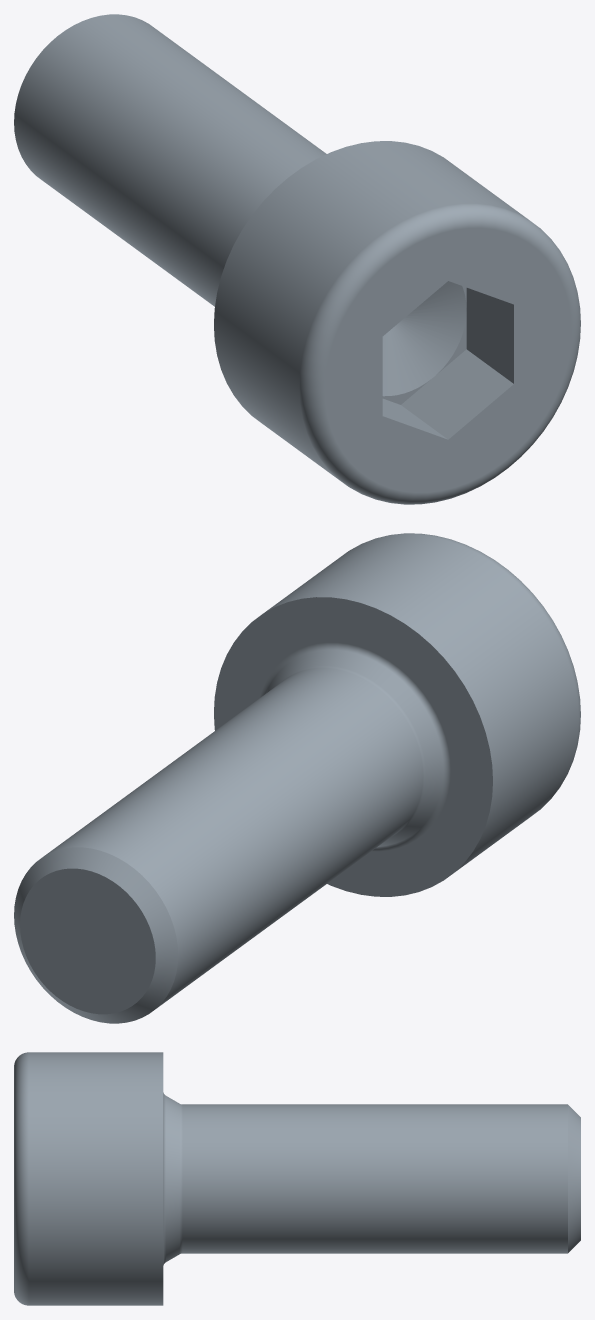
Rendered from Hex_socket_head_cap_screw_M5x0_80_x_14.obj.
3 renders of one model, top to bottom at view 1: azimuth 30°, elevation 25°; view 2: azimuth 150°, elevation 25°; view 3: azimuth 270°, elevation 25°, orthographic. The views are drawn at different scales.
Visible parts, largest first — view 1: mesh1389, mesh1396, mesh1394, mesh1395, mesh1404, mesh1402, mesh1397, mesh1401; view 2: mesh1389, mesh1394, mesh1393, mesh1387, mesh1388, mesh1391, mesh1392, mesh1395, mesh1390; view 3: mesh1389, mesh1394, mesh1395, mesh1391, mesh1388, mesh1392, mesh1390.
Part boxes in pixels (<box>): mesh1389: <box>14,14,326,306</box>; mesh1396: <box>325,228,571,492</box>; mesh1394: <box>214,141,527,480</box>; mesh1395: <box>299,203,580,504</box>; mesh1404: <box>382,281,466,396</box>; mesh1402: <box>401,349,513,439</box>; mesh1397: <box>466,288,513,383</box>; mesh1401: <box>382,398,447,439</box>; mesh1389: <box>44,668,423,1008</box>; mesh1394: <box>264,534,578,871</box>; mesh1393: <box>214,597,492,896</box>; mesh1387: <box>20,868,155,1014</box>; mesh1388: <box>14,847,178,1023</box>; mesh1391: <box>266,650,443,846</box>; mesh1392: <box>259,642,450,851</box>; mesh1395: <box>353,533,580,799</box>; mesh1390: <box>278,665,425,837</box>; mesh1389: <box>182,1104,567,1253</box>; mesh1394: <box>29,1052,163,1305</box>; mesh1395: <box>14,1052,28,1305</box>; mesh1391: <box>166,1096,179,1261</box>; mesh1388: <box>568,1105,580,1252</box>; mesh1392: <box>163,1092,166,1265</box>; mesh1390: <box>179,1104,182,1253</box>.
Bounding box in the file's own units: 0.0085 × 0.00849 × 0.019.
